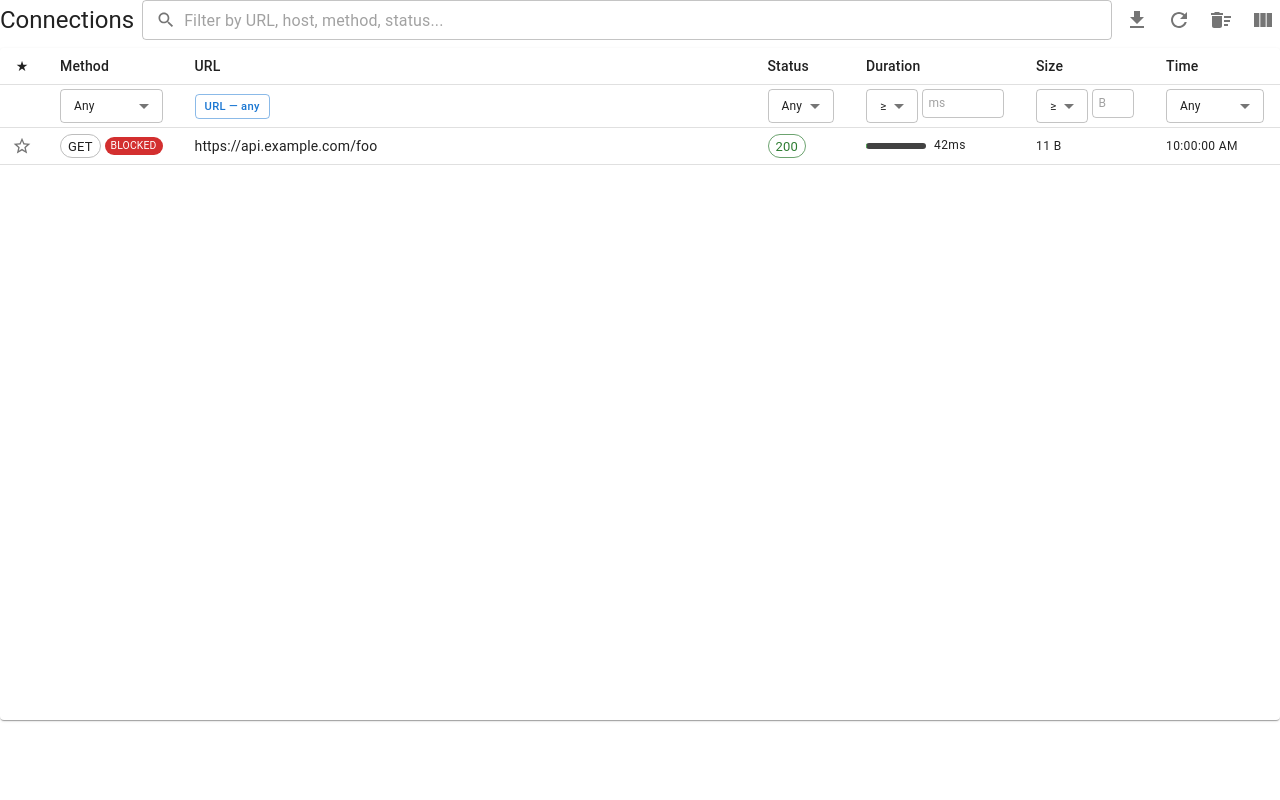
ConnectionsPage — blocked badge › shows "Blocked: yes" highlighted in the detail drawer for blocked rows
The image size is (1280, 800).
Step 1. Click the text "https://api.example.com/foo" → click(465, 147), box x1=178 y1=128 x2=752 y2=165
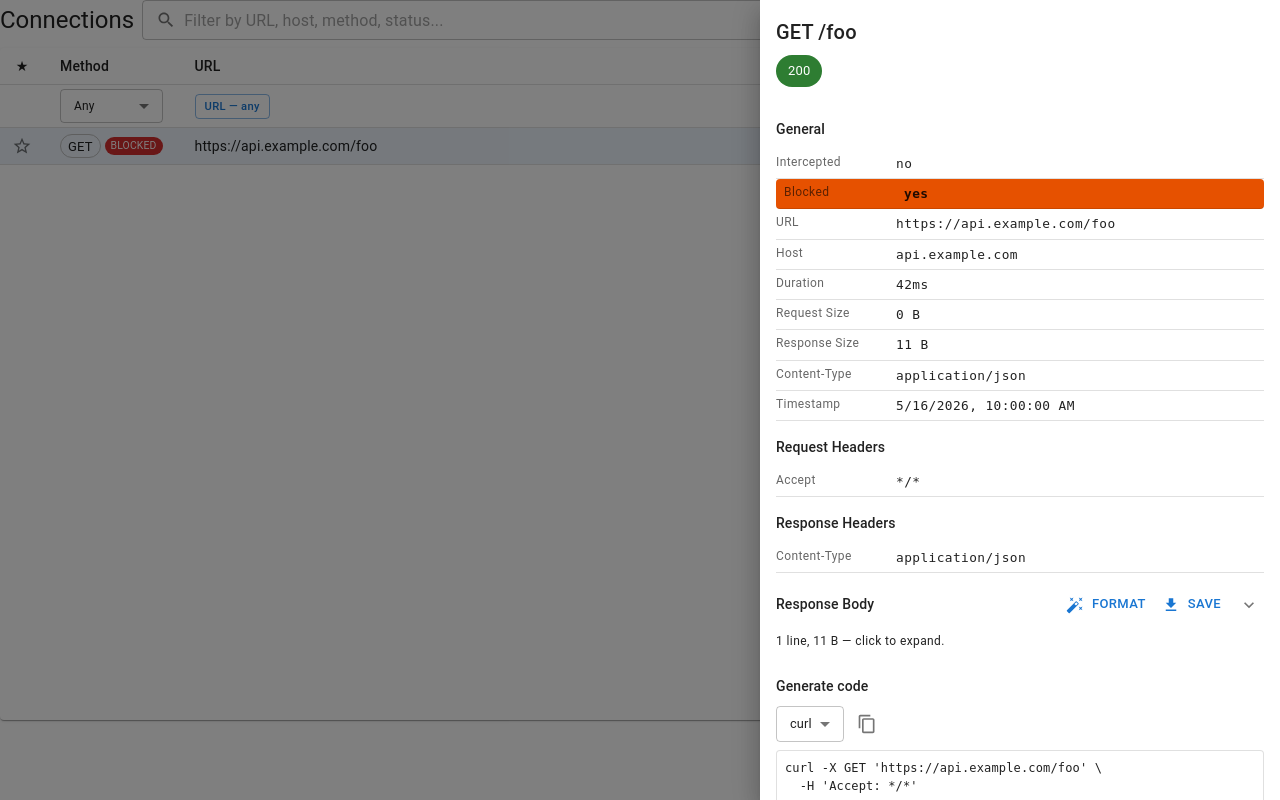
Check: the number of elements with test id "detail-row-highlighted" is 1, box x1=776 y1=179 x2=1264 y2=209
Check: the element with test id "detail-row-highlighted" shows "Blocked", box x1=784 y1=185 x2=829 y2=199
Check: the element with test id "detail-row-highlighted" shows "yes", box x1=904 y1=186 x2=928 y2=201
